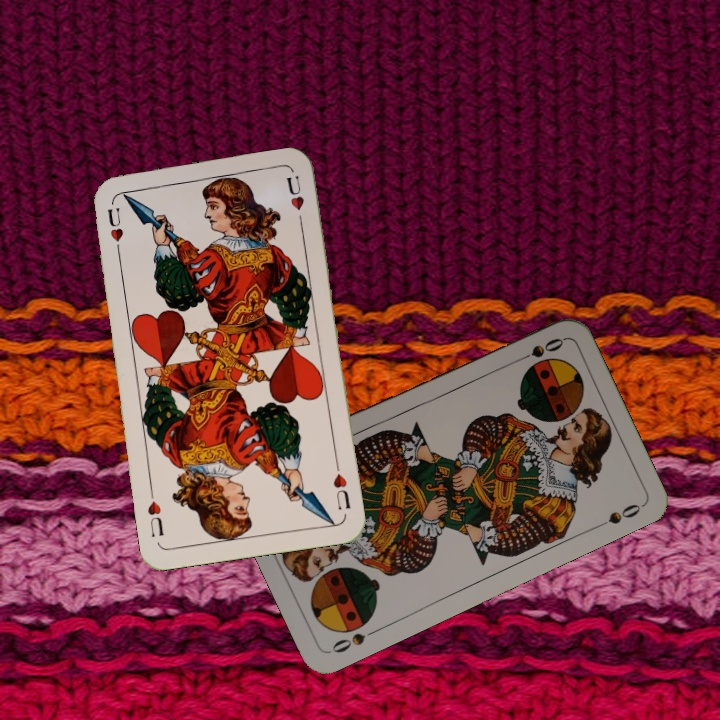HU: (329, 458, 353, 513), (103, 204, 126, 244)
SO: (511, 333, 567, 366), (327, 624, 382, 656)
